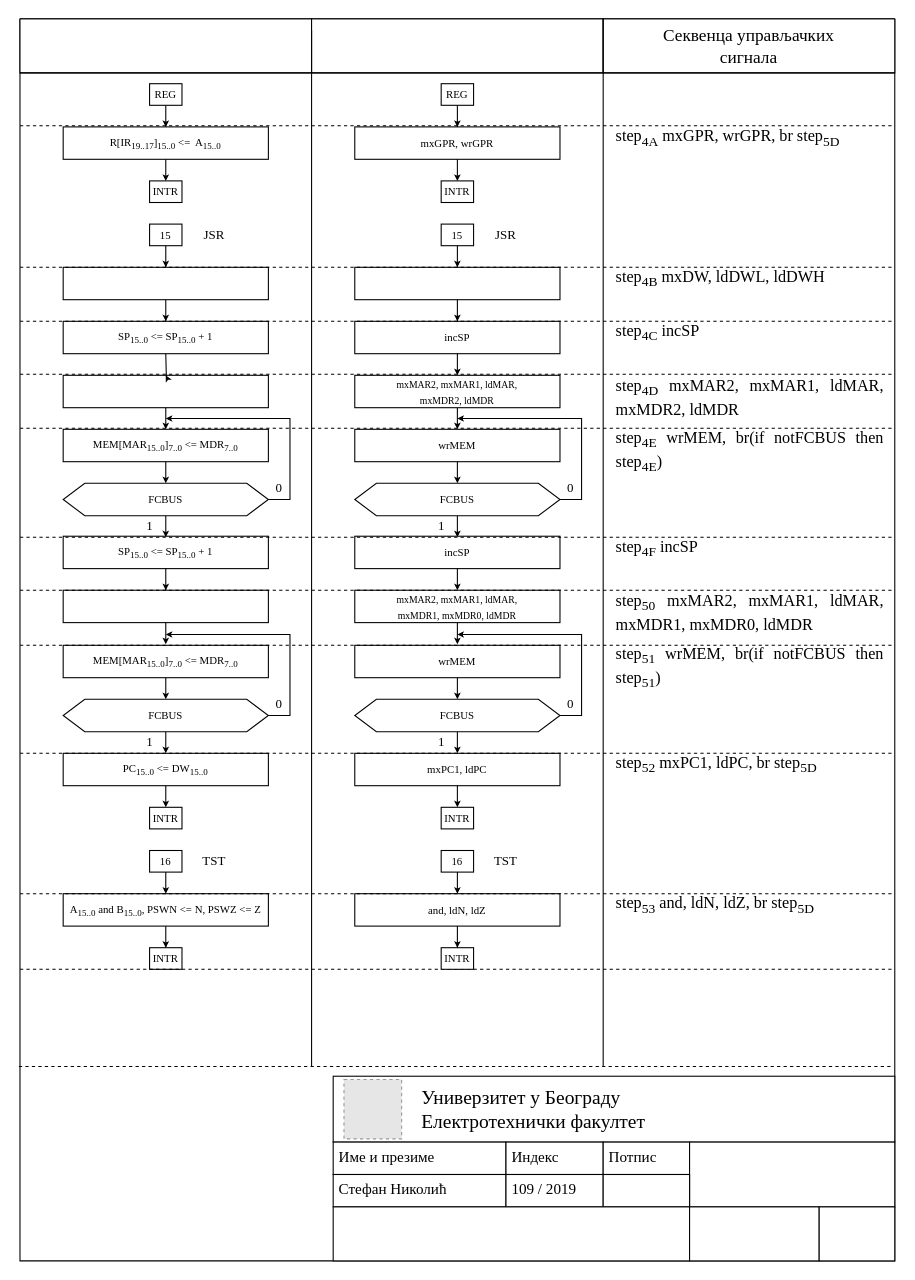
Image size: 915x1280. Some labels were removed from this diagram. Grey dashed boxes stand in for pictures. The shapes that lost their labels are listed below. From the top down, each one's centre as x and y in pixels, then its label:
At point 165,45: "Дијаграм тока микрооперација".
At point 456,45: "Дијаграм тока управљачких сигнала".
At point 165,283: "DW 15..0 <= MAR 15..0".
At point 457,283: "mxDW, ldDWL, ldDWH".
At point 165,391: "MAR 15..0 <= SP 15..0 , MDR 7..0 <= PC 7..0".
At point 165,606: "MAR 15..0 <= SP 15..0 , MDR 7..0 <= PC 15..8".
At point 791,1174: "Пројекат Задатак 209".
At point 511,1233: "Назив Основи рачунарске технике 2".
At point 753,1233: "Датум 25.09.2021.".
At point 856,1233: "Страна 14".
